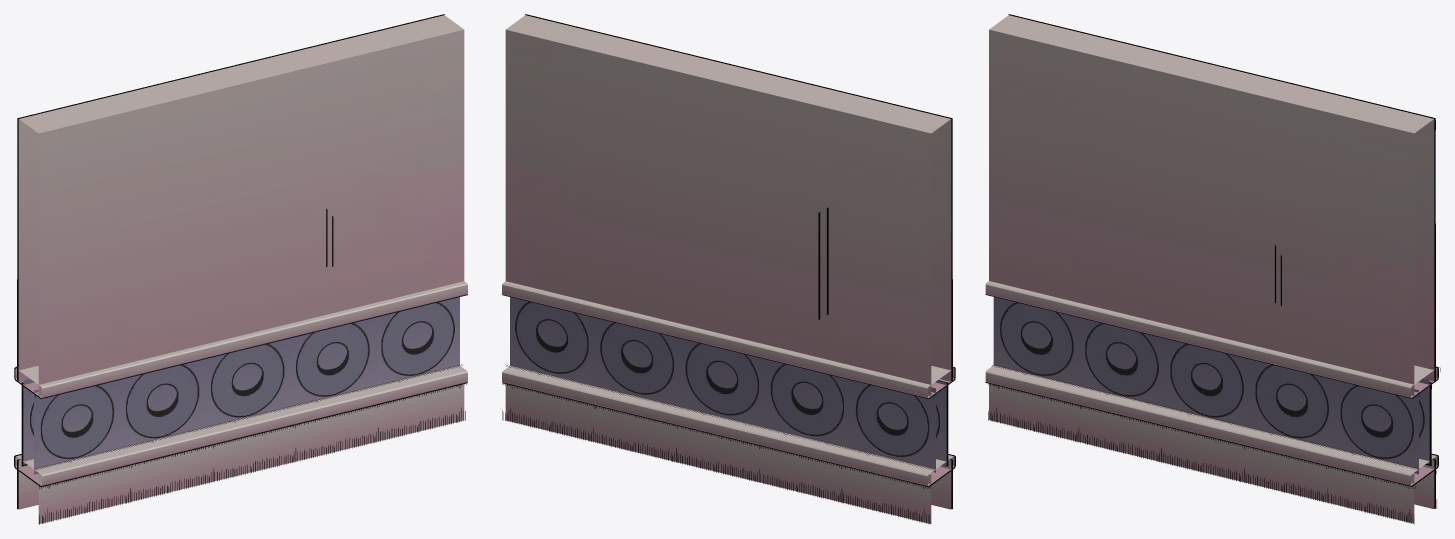
The model's file is wall-01.glb.
The picture shows the model from 3 angles, left to right: view 1: azimuth 30°, elevation 25°; view 2: azimuth 150°, elevation 25°; view 3: azimuth 330°, elevation 25°; orthographic projection.
Parts seen in each view (by area): view 1: Wall_01; view 2: Wall_01; view 3: Wall_01.
Boxes of the visible parts, bbox=[...] form: Wall_01: bbox=[14, 14, 467, 524]; Wall_01: bbox=[502, 14, 955, 523]; Wall_01: bbox=[985, 14, 1440, 524].
Bounding box in the file's own units: 4.03 × 3.51 × 0.4612.
Materials: 3 (2 with a texture image).
